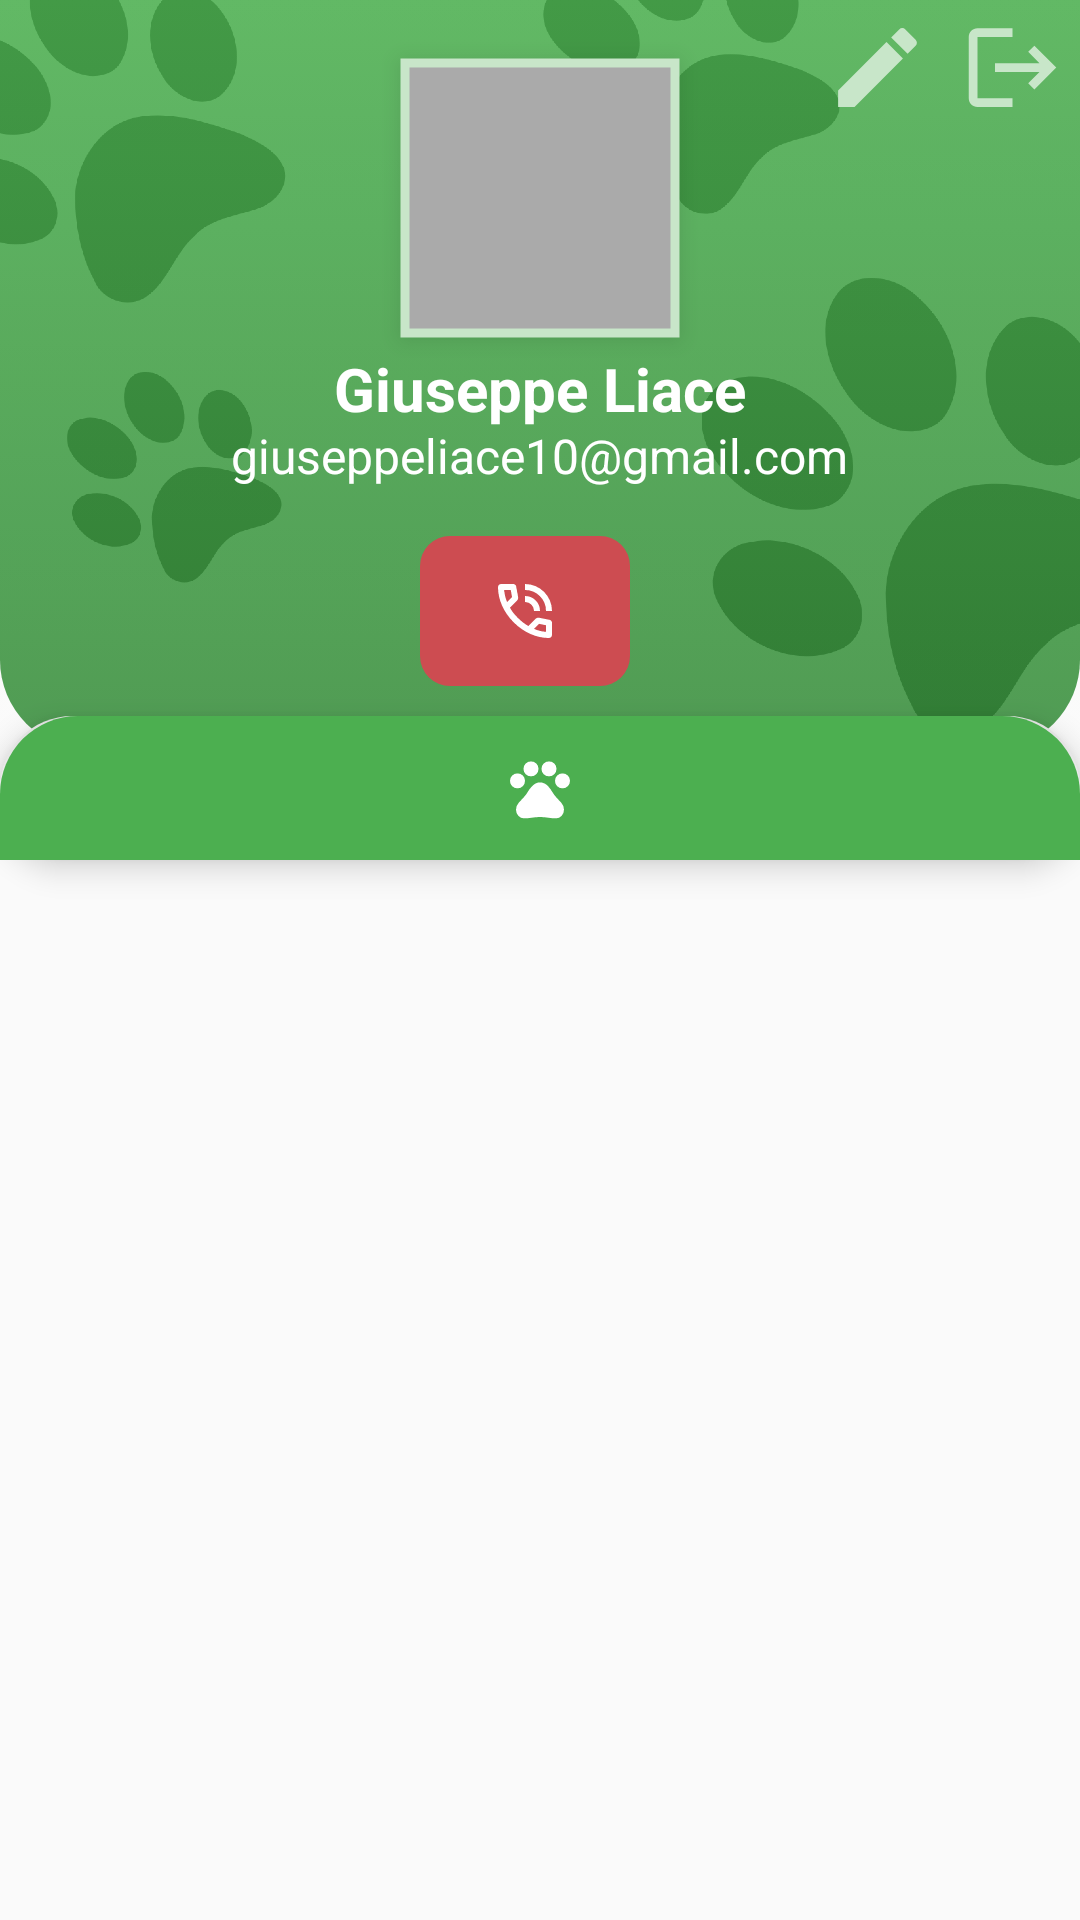

Screen size 1080px×1920px. Icon name, then its box in pixels as (x1,y1,x2,y2):
call: (420,536,630,686)
edit: (825,28,917,120)
